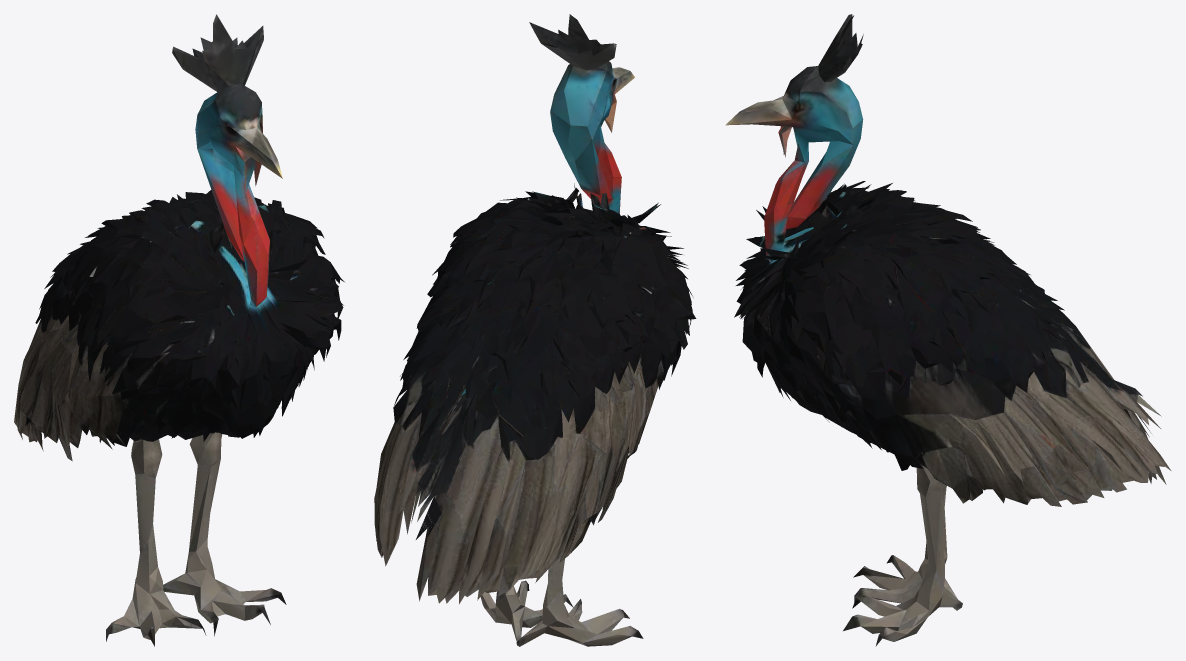
File: fauna_cassowary.glb
3 renders of one model, left to right at view 1: azimuth 30°, elevation 25°; view 2: azimuth 150°, elevation 25°; view 3: azimuth 270°, elevation 25°, orthographic. The views are drawn at different scales.
Size of the model in its own units: 0.7979 by 1.9 by 1.29.
Materials: 1 (1 with a texture image).
